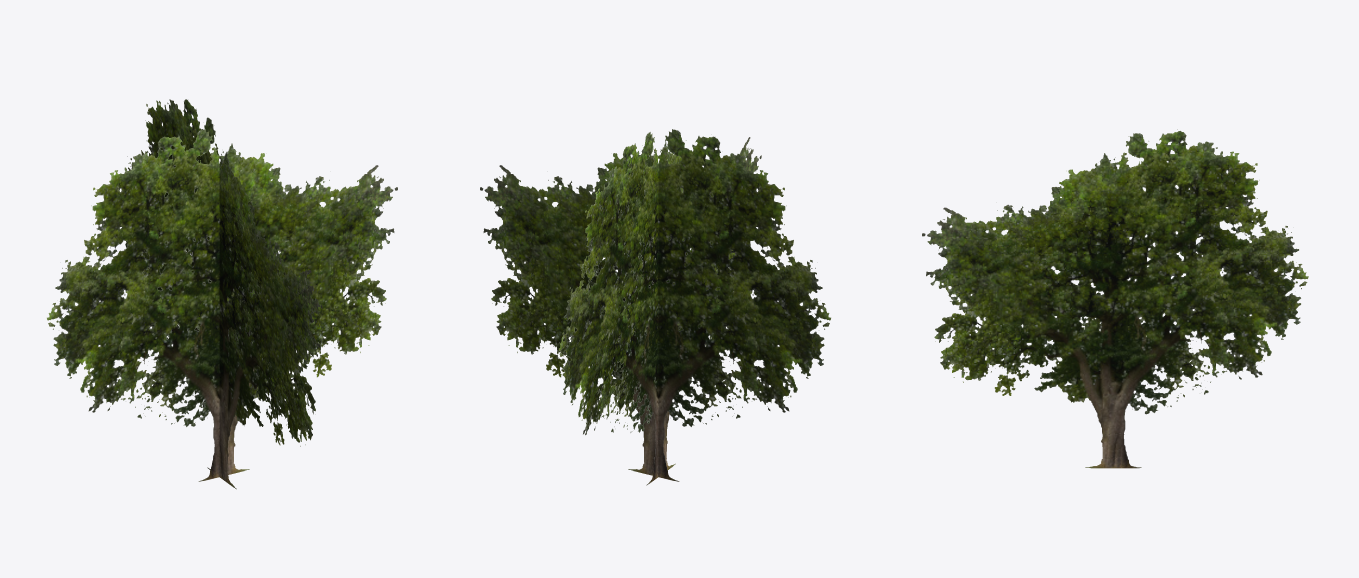
The model's file is ovocny2.dae.
3 renders of one model, left to right at view 1: azimuth 30°, elevation 25°; view 2: azimuth 150°, elevation 25°; view 3: azimuth 270°, elevation 25°, orthographic. The views are drawn at different scales.
Visible parts, largest first — view 1: SketchUp (×2); view 2: SketchUp (×2); view 3: SketchUp.
Part boxes in pixels (box(x1,y1,x2,y2)): SketchUp (×2): box(47, 99, 397, 489); SketchUp (×2): box(480, 129, 830, 485); SketchUp: box(922, 129, 1308, 468).
Bounding box in the file's own units: 154 × 154 × 135.
Materials: 1 (1 with a texture image).
